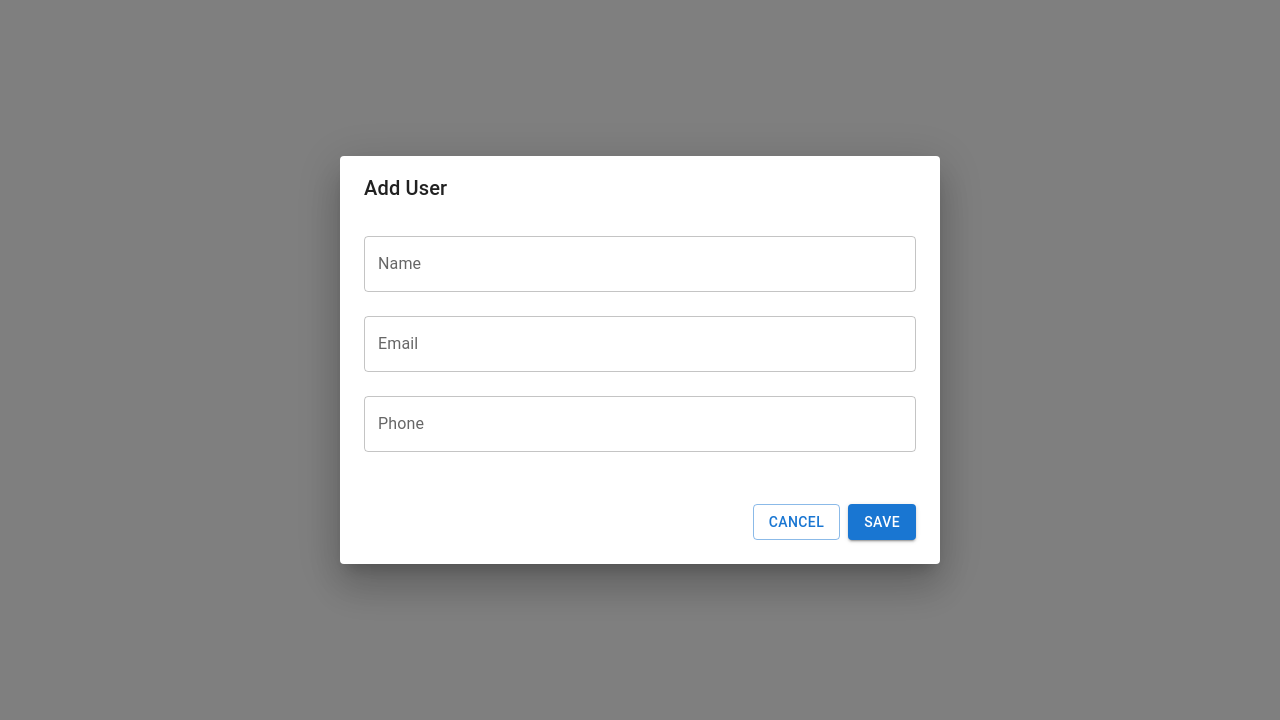
Scenario: UserModal › Menampilkan kesalahan validasi saat mengirimkan formulir kosong.
Click the button "Save" at [882, 522], box [848,504,916,540]
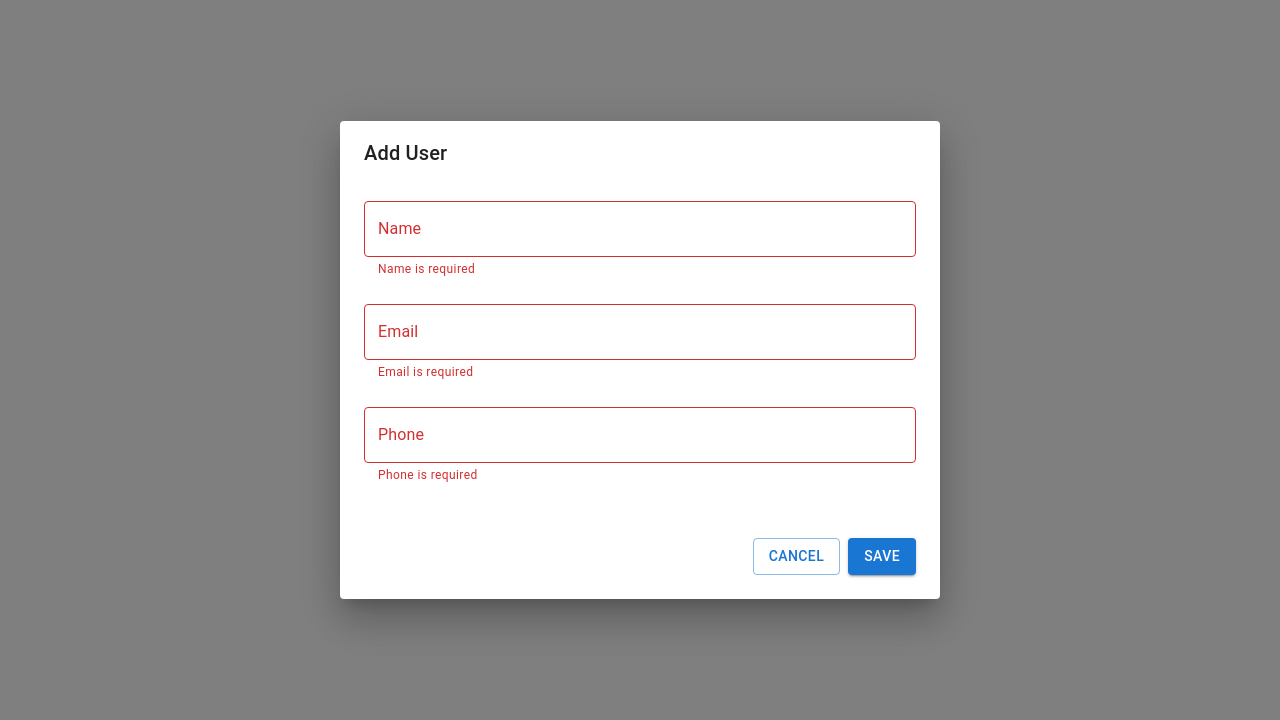
expect the text "Name is required" is shown: met, box [378,262,475,276]
expect the text "Email is required" is shown: met, box [378,365,473,379]
expect the text "Phone is required" is shown: met, box [378,468,478,482]
